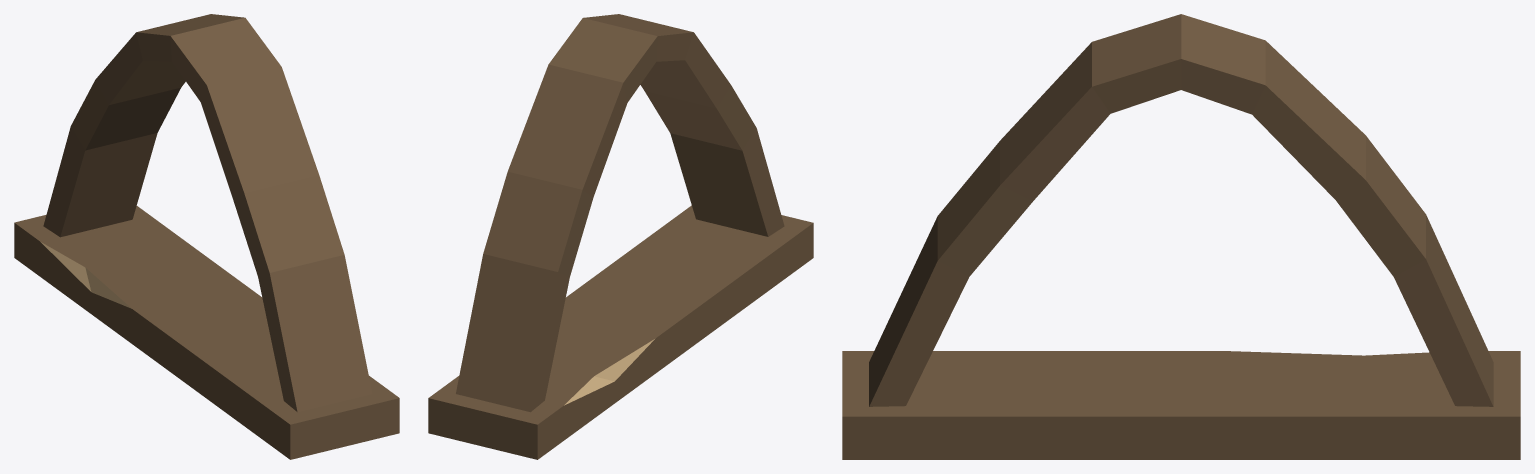
Rendered from rpgpp_ag_roof_02d_half_window_01a.fbx.
3 renders of one model, left to right at view 1: azimuth 30°, elevation 25°; view 2: azimuth 150°, elevation 25°; view 3: azimuth 270°, elevation 25°, orthographic. The views are drawn at different scales.
Visible parts, largest first — view 1: rpgpp_ag_roof_02d_half_window_01a; view 2: rpgpp_ag_roof_02d_half_window_01a; view 3: rpgpp_ag_roof_02d_half_window_01a.
Part boxes in pixels (x1=…): rpgpp_ag_roof_02d_half_window_01a: x1=14, y1=14, x2=399, y2=459; rpgpp_ag_roof_02d_half_window_01a: x1=428, y1=14, x2=813, y2=459; rpgpp_ag_roof_02d_half_window_01a: x1=842, y1=14, x2=1520, y2=459.
Size of the model in its own units: 0.4966 by 1.38 by 2.17.
